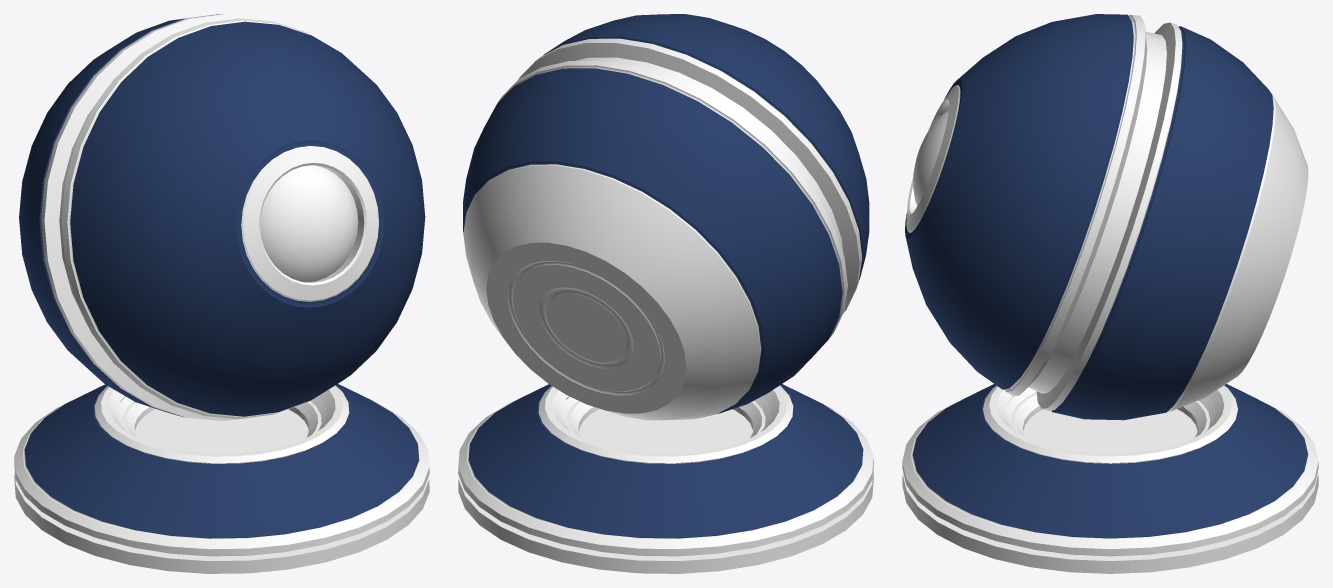
The model's file is AlterShaderball.glb.
The picture shows the model from 3 angles, left to right: view 1: azimuth 30°, elevation 25°; view 2: azimuth 150°, elevation 25°; view 3: azimuth 270°, elevation 25°; orthographic projection.
Parts seen in each view (by area): view 1: Shader_ball, Ball_stand; view 2: Shader_ball, Ball_stand; view 3: Shader_ball, Ball_stand.
Boxes of the visible parts, x1,y1,x2,y2 form: Shader_ball: (19, 14, 425, 420); Ball_stand: (14, 384, 429, 573); Shader_ball: (463, 14, 869, 420); Ball_stand: (458, 384, 873, 573); Shader_ball: (905, 14, 1308, 420); Ball_stand: (902, 384, 1318, 573).
Size of the model in its own units: 1.99 by 2.39 by 1.99.
